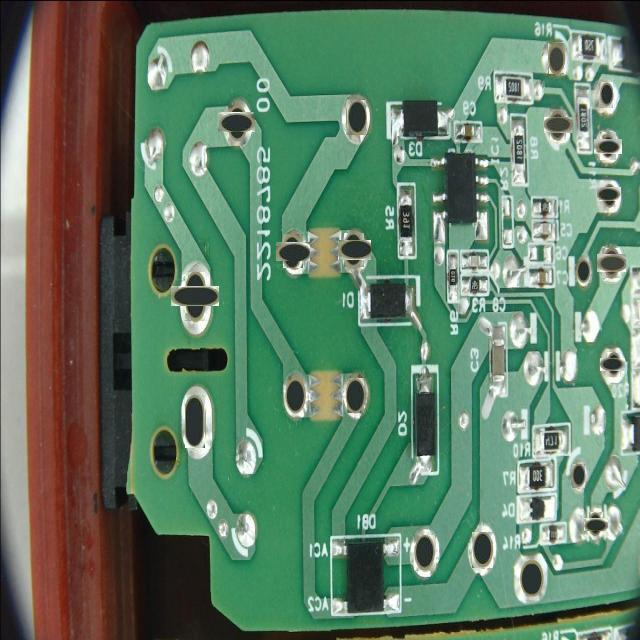damged: (178, 279, 212, 314), (185, 396, 205, 450), (520, 559, 542, 596), (222, 108, 250, 137), (414, 535, 436, 571), (472, 532, 493, 568), (340, 237, 368, 264), (346, 99, 366, 135), (280, 238, 306, 265), (285, 378, 305, 412), (346, 377, 364, 413), (599, 251, 623, 275), (546, 114, 570, 137), (548, 42, 564, 74), (597, 135, 619, 157), (586, 514, 606, 534), (599, 185, 619, 204), (603, 355, 623, 374), (599, 82, 613, 108), (576, 258, 590, 282), (571, 464, 585, 488)
